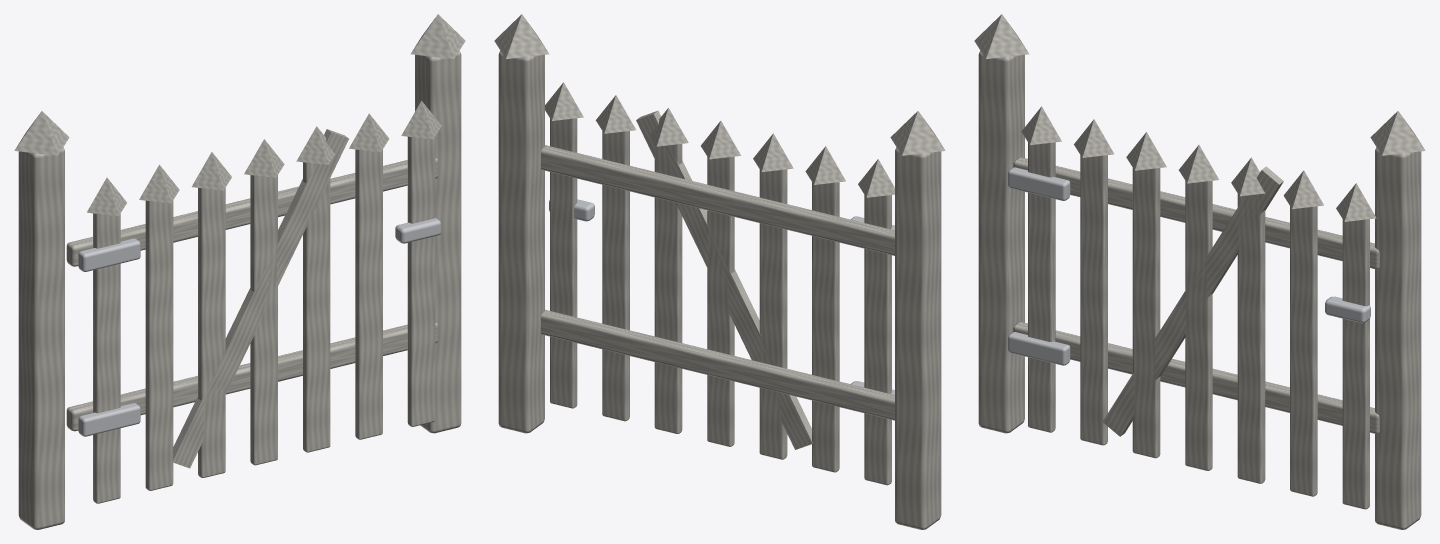
Rendered from halloween-slasher-street-picket-fence-gate-b0f935cc__27279.glb.
The picture shows the model from 3 angles, left to right: view 1: azimuth 30°, elevation 25°; view 2: azimuth 150°, elevation 25°; view 3: azimuth 330°, elevation 25°; orthographic projection.
Parts seen in each view (by area): view 1: gate-leaf/clapboard, picket-fence-gate, gate-leaf/metal; view 2: gate-leaf/clapboard, picket-fence-gate, gate-leaf/metal; view 3: gate-leaf/clapboard, picket-fence-gate, gate-leaf/metal.
Part boxes in pixels (x1,y1,x2,y2): gate-leaf/clapboard: (66,100,441,503); picket-fence-gate: (14,14,465,529); gate-leaf/metal: (78,217,441,436); gate-leaf/clapboard: (541,82,894,485); picket-fence-gate: (494,14,945,529); gate-leaf/metal: (549,199,894,394); gate-leaf/clapboard: (1013,106,1379,509); picket-fence-gate: (974,14,1425,529); gate-leaf/metal: (1008,167,1370,365).
Bounding box in the file's own units: 1.55 × 1.35 × 0.24.
2 materials, 1 textured.
